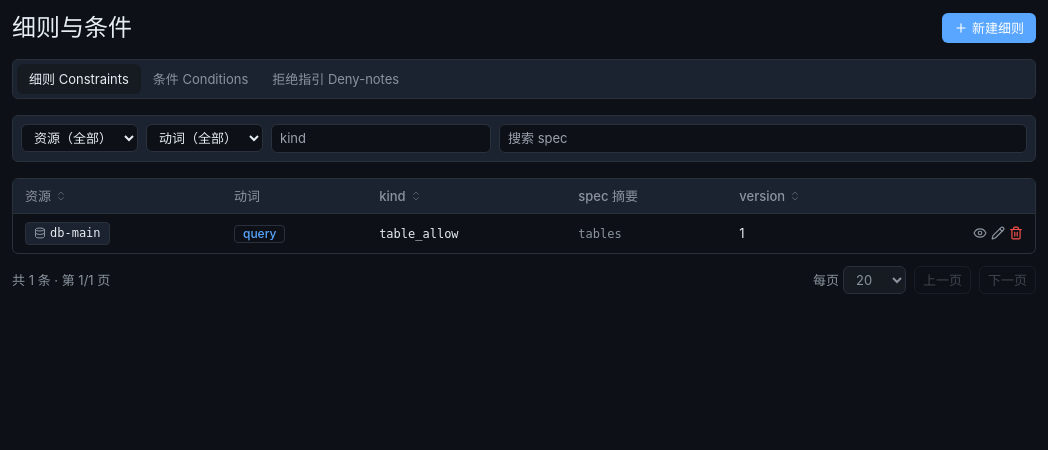
Test case: ConstraintsPage — 三态 fail-closed › deny-notes empty fact: no operator_note field when unset (skip_serializing)
The width and height of the screenshot is (1048, 450).
Expected: the text "table_allow" is shown, [379,227,459,241]
Click the tab "拒绝指引 Deny-notes". click: point(336, 79)
box: [260,64,411,94]
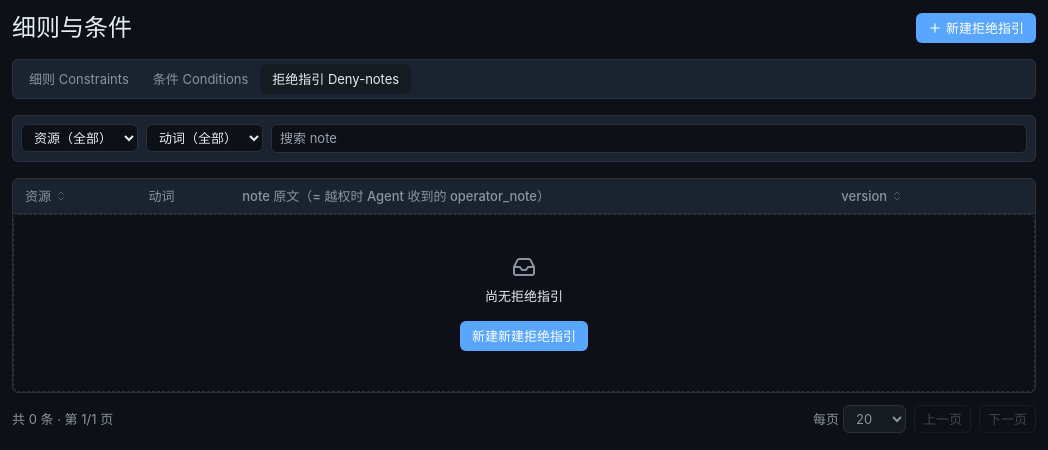
Expected: the text "尚无拒绝指引" is shown, [485,287,563,305]
Expected: the button "新建拒绝指引" is shown, [916,12,1036,43]
